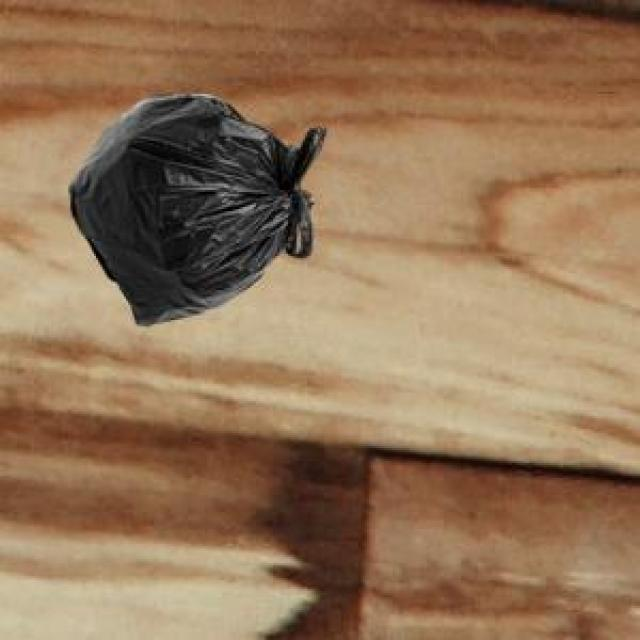miscellaneous trash: (66, 90, 321, 322)
